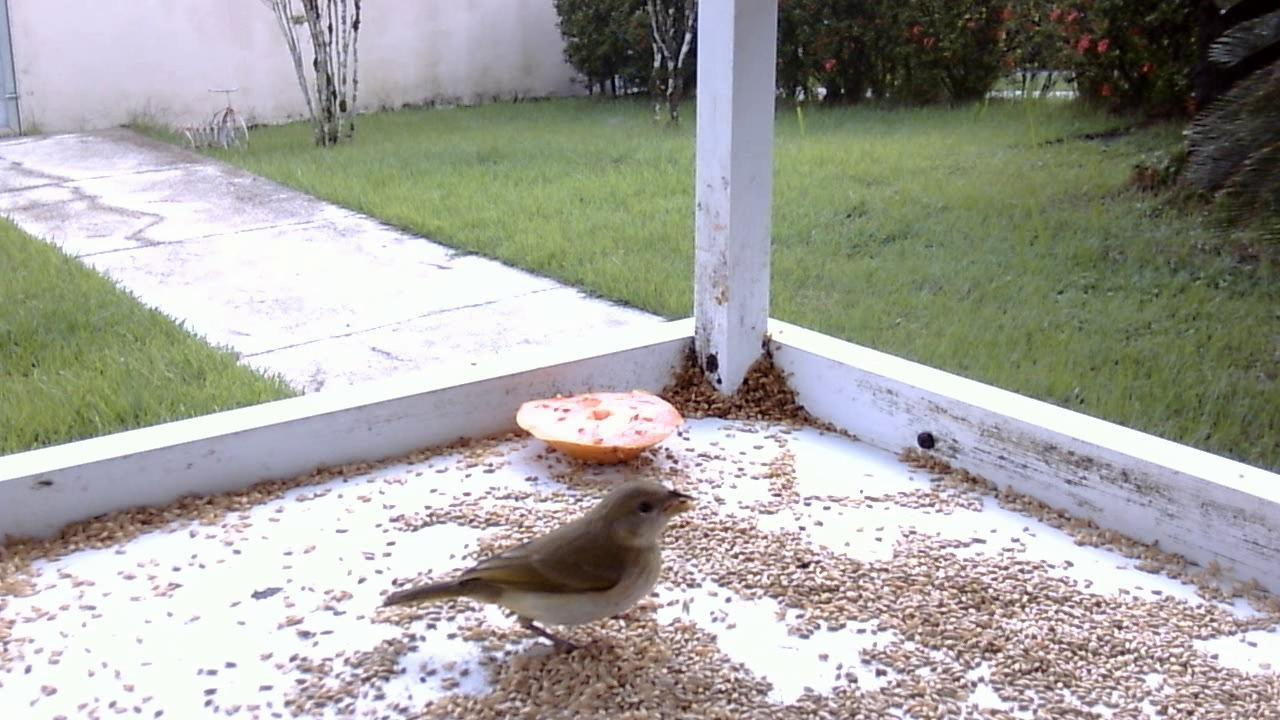canario_do_amazonas: (373, 475, 692, 664)
